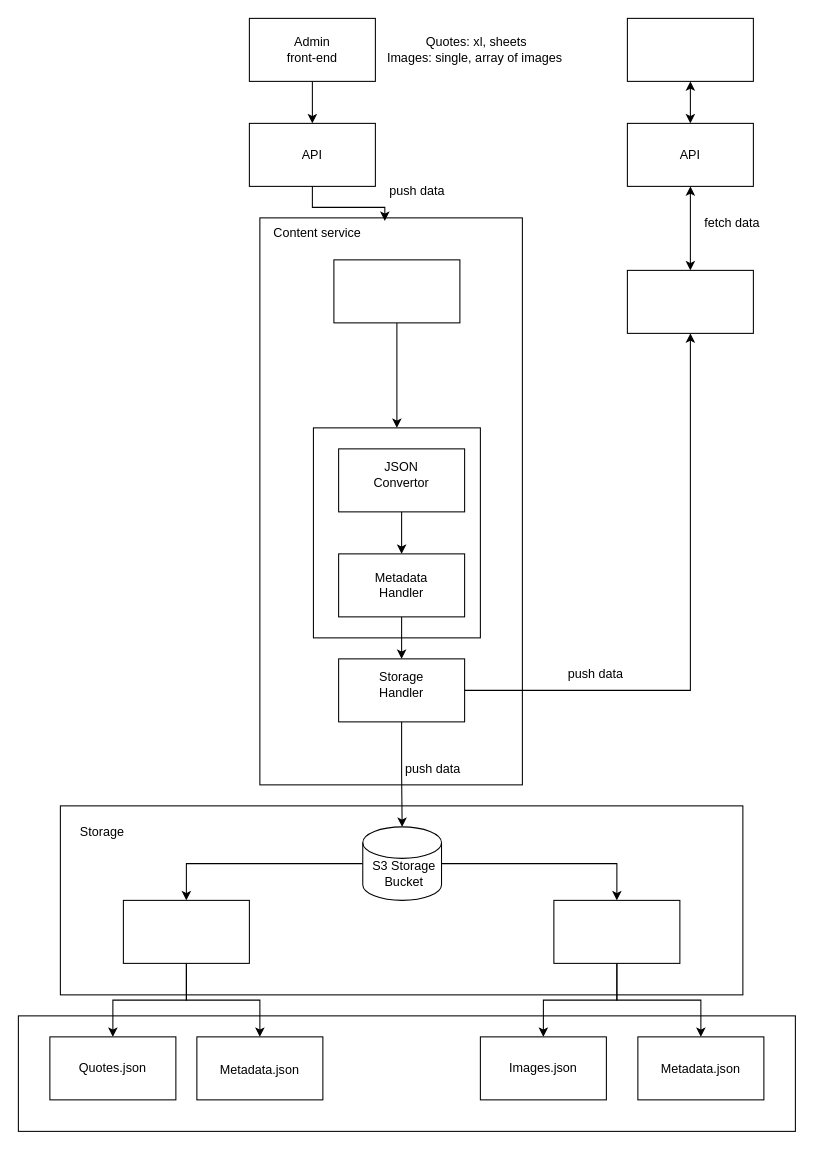
Image size: 814x1150. Some labels were removed from this diagram. Each missing label, with the centre of its shape:
"Client Application" goes at (689,49).
"Database" goes at (689,301).
"images/" goes at (616,931).
"quotes/" goes at (185,931).
"Upload Handler" goes at (396,291).
